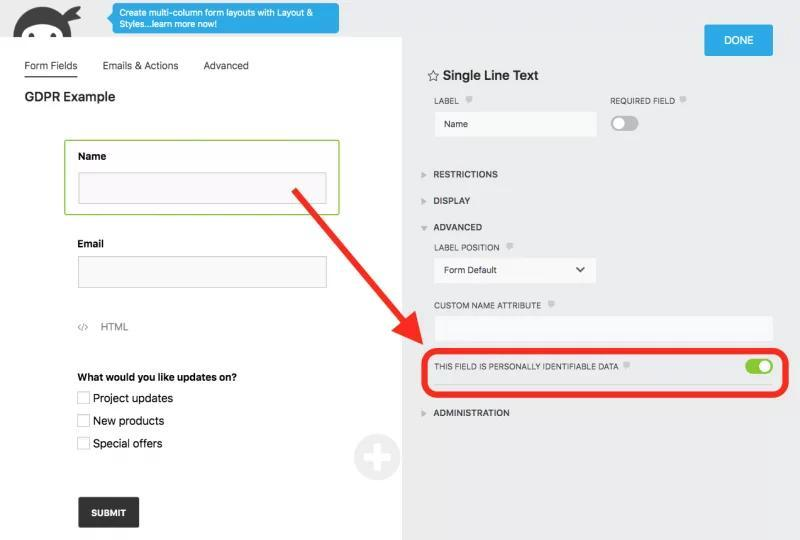button: (704, 24, 775, 58), (78, 496, 141, 530)
checkbox: (77, 437, 91, 452), (77, 415, 91, 429), (78, 393, 91, 407)
dropdown: (433, 258, 597, 287)
input: (434, 313, 777, 346), (77, 255, 331, 291), (77, 171, 329, 207), (432, 111, 602, 141)
label: (77, 372, 243, 386), (25, 89, 124, 111), (435, 298, 545, 312), (433, 166, 505, 185), (436, 406, 513, 422), (94, 393, 177, 406), (93, 415, 168, 429), (433, 242, 502, 256), (94, 438, 166, 450), (431, 194, 473, 209), (77, 149, 113, 166), (426, 94, 464, 110), (75, 237, 109, 252)
switch: (610, 113, 641, 133), (746, 357, 776, 376)
